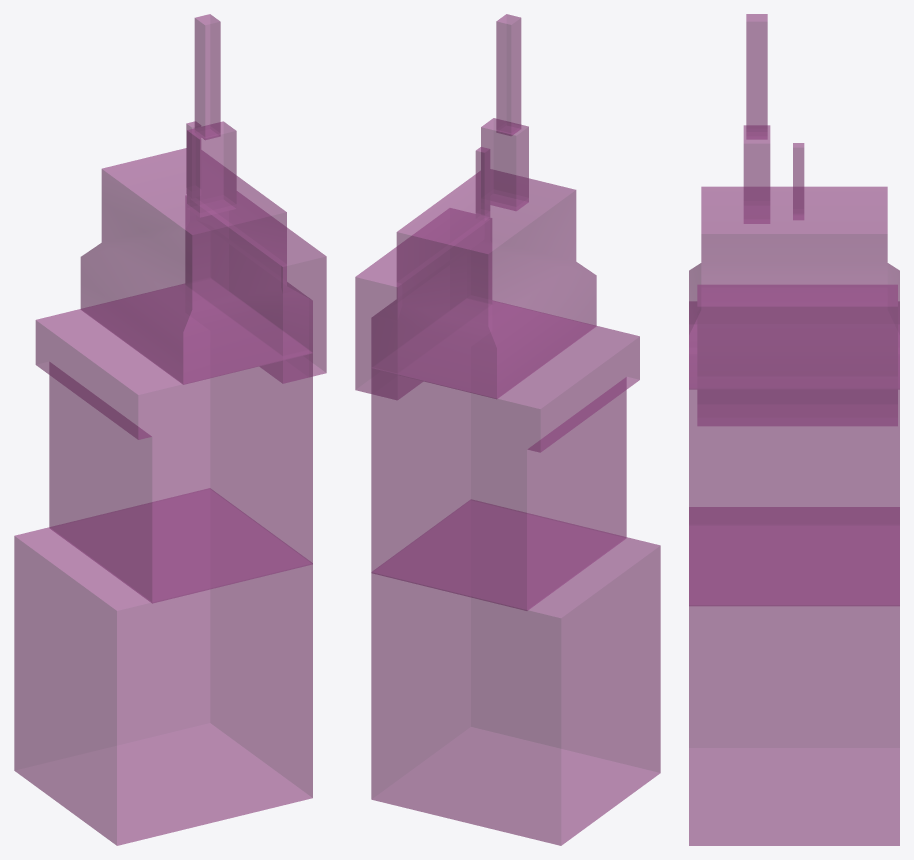
The model's file is SM_Bld_Background_Building_04_Collision.fbx.
3 views of the same model, side by side, from view 1: azimuth 30°, elevation 25°; view 2: azimuth 150°, elevation 25°; view 3: azimuth 270°, elevation 25° (orthographic). The views are drawn at different scales.
Parts seen in each view (by area): view 1: SM_Bld_Background_Building_04_Collision; view 2: SM_Bld_Background_Building_04_Collision; view 3: SM_Bld_Background_Building_04_Collision.
Part boxes in pixels (left/top/right/bottom): SM_Bld_Background_Building_04_Collision: left=14, top=14, right=326, bottom=845; SM_Bld_Background_Building_04_Collision: left=355, top=14, right=660, bottom=845; SM_Bld_Background_Building_04_Collision: left=689, top=14, right=899, bottom=845.
Bounding box in the file's own units: 1968 × 6796 × 1641.
